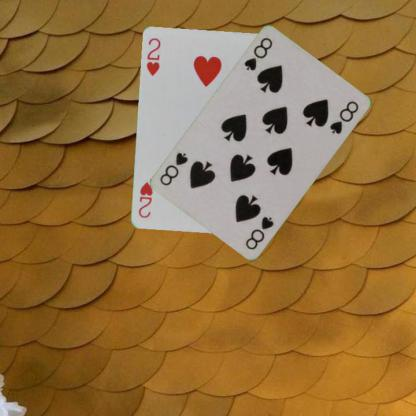2h: (144, 35, 162, 78)
8s: (241, 34, 274, 72), (243, 214, 275, 252)
